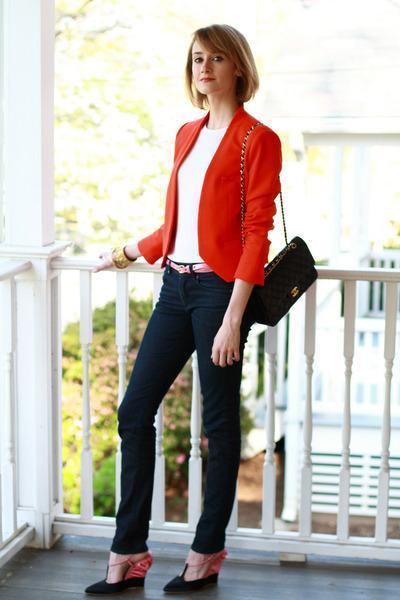bag: (239, 192, 317, 354)
jacket: (138, 108, 281, 299)
pants: (111, 258, 248, 554)
shirt: (168, 126, 225, 272)
shoe: (85, 564, 217, 599)
